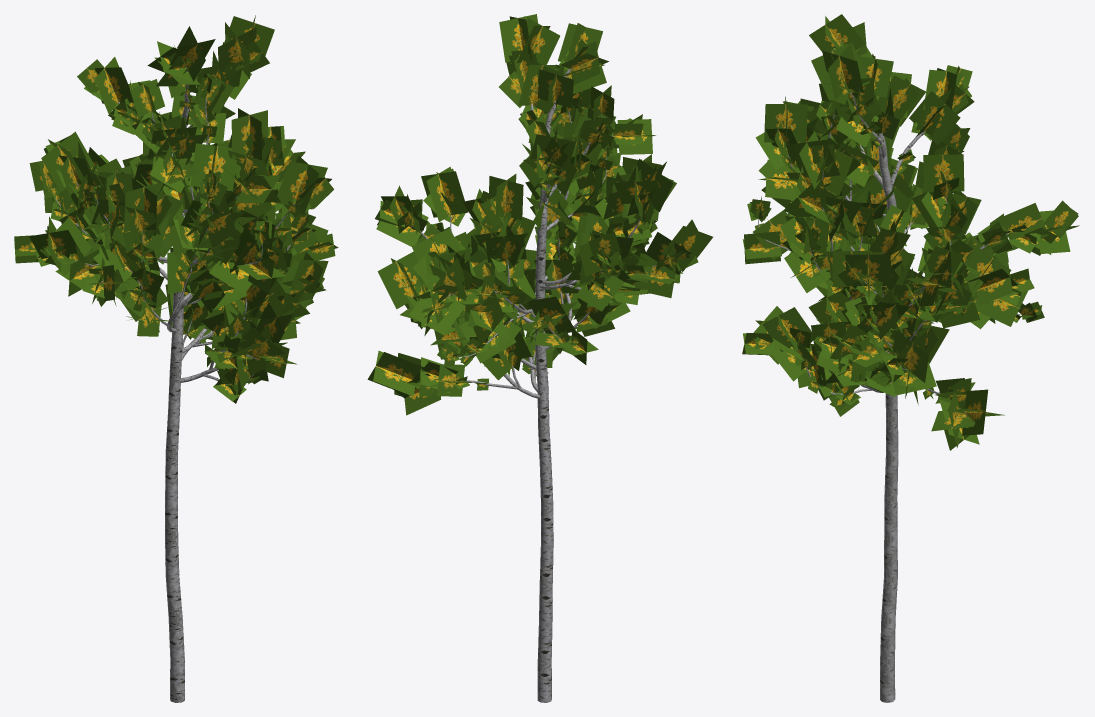
3 renders of one model, left to right at view 1: azimuth 30°, elevation 25°; view 2: azimuth 150°, elevation 25°; view 3: azimuth 270°, elevation 25°, orthographic. The views are drawn at different scales.
Parts seen in each view (by area): view 1: branches, branches.001; view 2: branches, branches.001; view 3: branches, branches.001.
Boxes of the visible parts, x1=… form: branches: x1=14, y1=15, x2=338, y2=403; branches.001: x1=55, y1=67, x2=297, y2=702; branches: x1=367, y1=14, x2=712, y2=415; branches.001: x1=411, y1=68, x2=668, y2=702; branches: x1=742, y1=14, x2=1079, y2=450; branches.001: x1=758, y1=92, x2=1049, y2=702.
Bounding box in the file's own units: 9.68 × 20 × 9.03.
2 materials, 2 textured.
